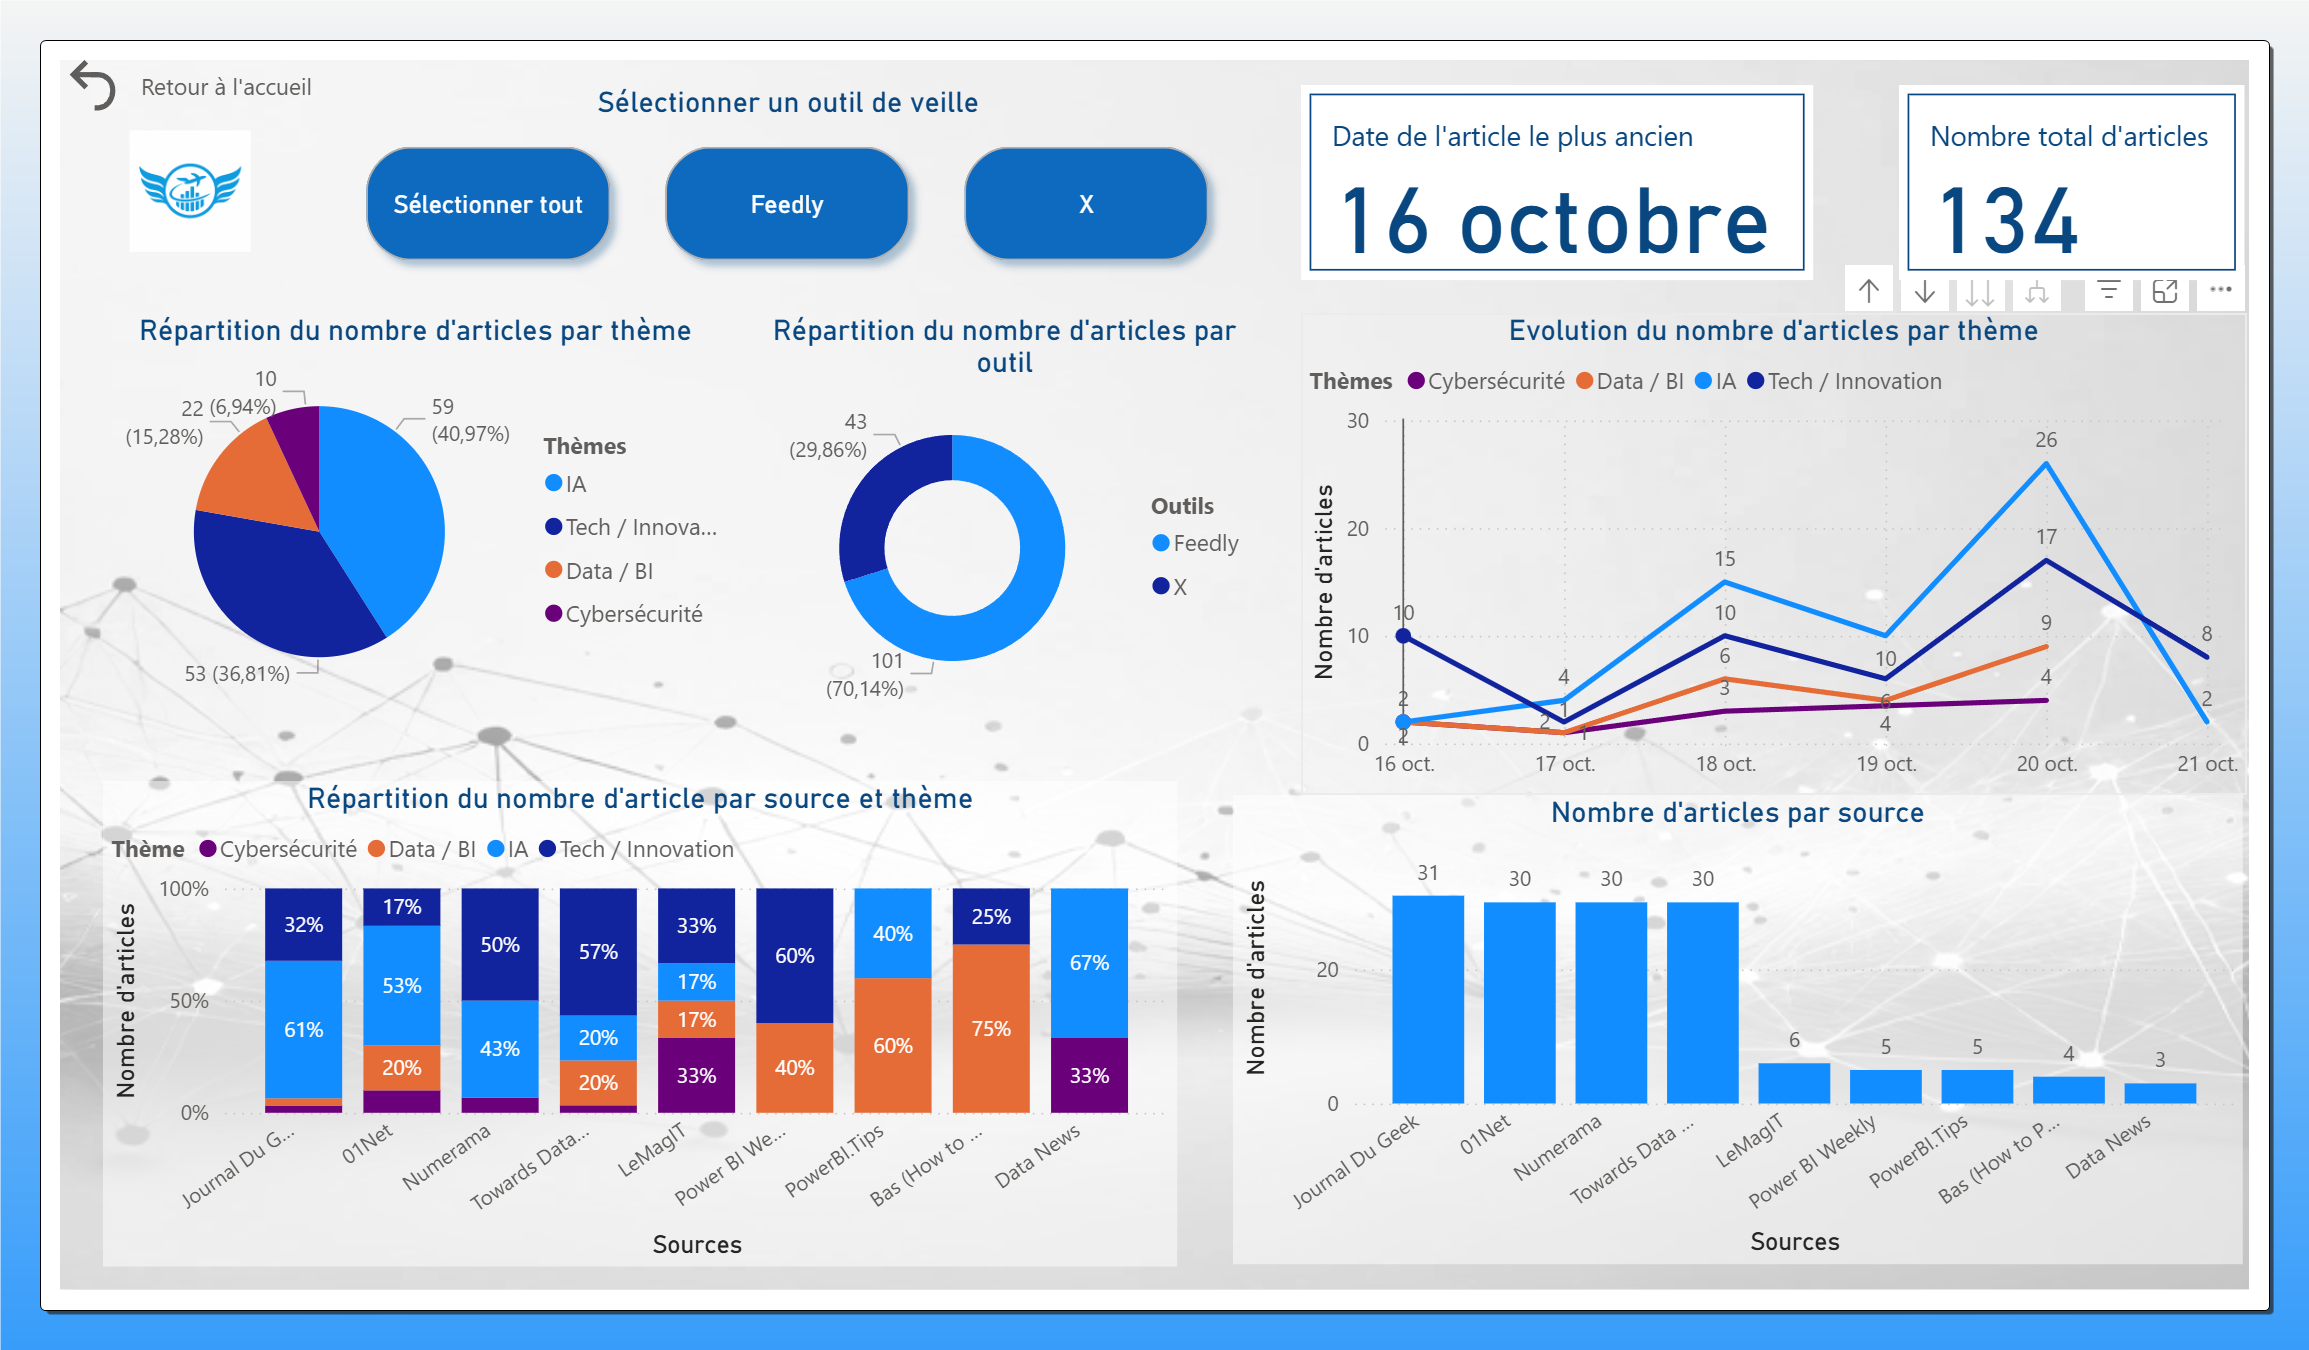

The page's visual inventory and layout, read from the dashboard file:
{"tool":"powerbi","page":{"name":"Veille","canvas":[1280,720],"ordinal":0},"visuals":[{"type":"actionButton","box":[0,0,151.3,39.6],"z":0},{"type":"image","box":[35.6,34.2,80.7,95.7],"z":1000},{"type":"hundredPercentStackedColumnChart","title":"Répartition du nombre d''article par source et thème","fields":{"Category":["Veille.Source Groupe"],"Y":["CountNonNull(Veille.Titre)"],"Series":["Veille.Thème Groupe"]},"box":[26,425.1,625.2,282.4],"z":2000},{"type":"pieChart","title":"Répartition du nombre d''articles par thème","fields":{"Category":["Veille.Thème Groupe"],"Y":["CountNonNull(Veille.Titre)"]},"box":[16.7,152.1,382.4,235.5],"z":4000},{"type":"clusteredColumnChart","title":"Nombre d''articles par source","fields":{"Category":["Veille.Source Groupe"],"Y":["CountNonNull(Veille.Titre)"]},"box":[683.5,432.4,587.7,273],"z":5000},{"type":"lineChart","title":"Evolution du nombre d''articles par thème","fields":{"Category":["Veille.Date.Variation.Date Hierarchy.Year","Veille.Date.Variation.Date Hierarchy.Quarter","Veille.Date.Variation.Date Hierarchy.Month","Veille.Date.Variation.Date Hierarchy.Day"],"Series":["Veille.Thème Groupe"],"Y":["CountNonNull(Veille.Titre)"]},"box":[723.1,152.1,550.2,280.3],"z":6000},{"type":"advancedSlicerVisual","title":"Sélectionner un outil de veille","fields":{"Values":["Veille.Outils"]},"box":[161.5,19.8,525.2,119.8],"z":7000},{"type":"donutChart","title":"Répartition du nombre d''articles par outil","fields":{"Category":["Veille.Outils"],"Y":["CountNonNull(Veille.Titre)"]},"box":[399.1,152.1,302.2,235.5],"z":8000},{"type":"cardVisual","fields":{"Data":["Count(Veille.Titre)"]},"box":[1070.1,19.8,201.1,113.6],"z":9000},{"type":"cardVisual","fields":{"Data":["Min(Veille.Date)"]},"box":[723.1,19.8,298,113.6],"z":10000}]}

Visuals, with their boxes on the page's 1280x720 design canvas (x1, y1, x2, y2). These are canvas units, not pixel positions in the 2309x1350 screenshot, which may show the page scaled, cropped or inside an application window:
actionButton: locate(0, 0, 151, 40)
image: locate(36, 34, 116, 130)
"Répartition du nombre d''article par source et thème" hundredPercentStackedColumnChart: locate(26, 425, 651, 708)
"Répartition du nombre d''articles par thème" pieChart: locate(17, 152, 399, 388)
"Nombre d''articles par source" clusteredColumnChart: locate(684, 432, 1271, 705)
"Evolution du nombre d''articles par thème" lineChart: locate(723, 152, 1273, 432)
"Sélectionner un outil de veille" advancedSlicerVisual: locate(162, 20, 687, 140)
"Répartition du nombre d''articles par outil" donutChart: locate(399, 152, 701, 388)
cardVisual - Count(Veille.Titre): locate(1070, 20, 1271, 133)
cardVisual - Min(Veille.Date): locate(723, 20, 1021, 133)
